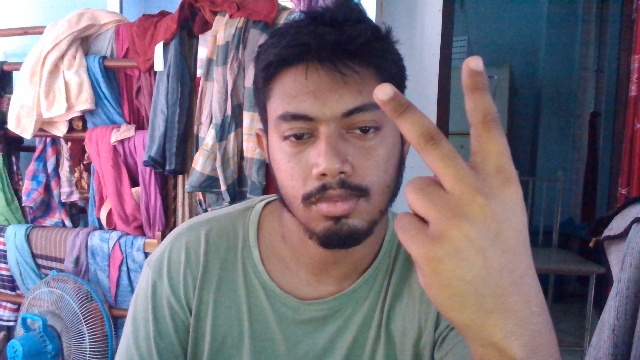thanks: (371, 48, 563, 317)
